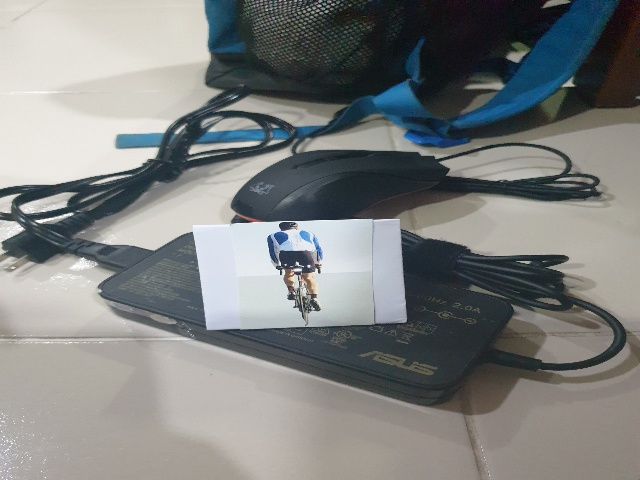Cyclist: (248, 222, 347, 327)
